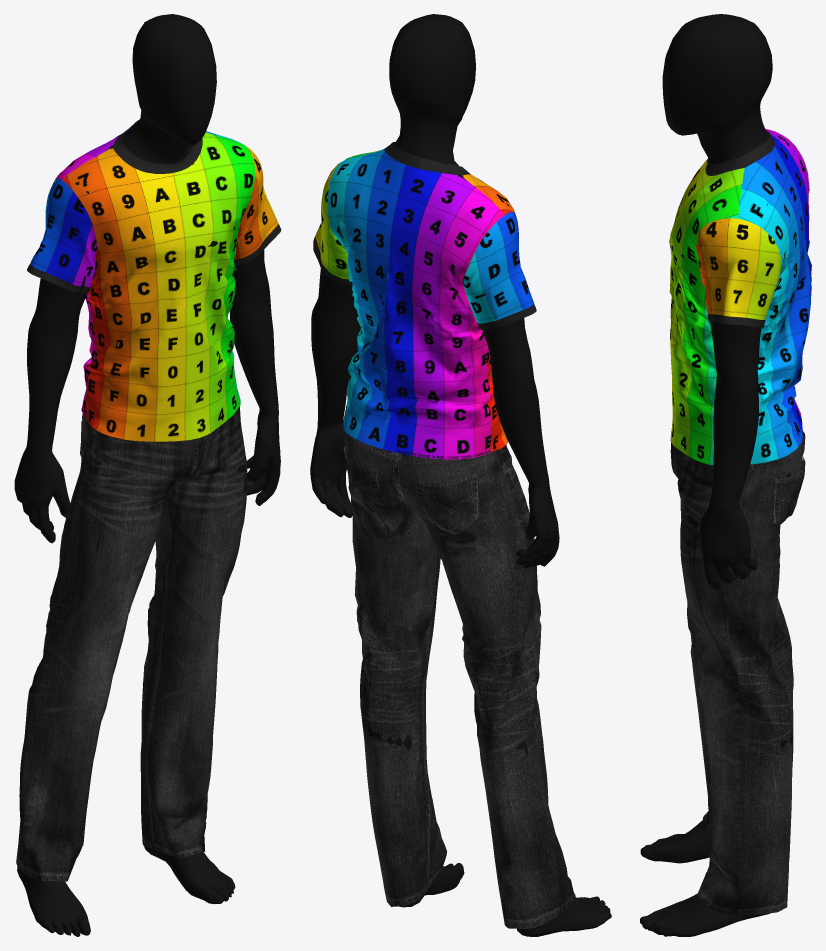
File: att_pg_manniTest_low.glb
3 renders of one model, left to right at view 1: azimuth 30°, elevation 25°; view 2: azimuth 150°, elevation 25°; view 3: azimuth 270°, elevation 25°, orthographic. The views are drawn at different scales.
Visible parts, largest first — view 1: Cloth_5, Male_mannequin_5; view 2: Cloth_5, Male_mannequin_5; view 3: Cloth_5, Male_mannequin_5.
Part boxes in pixels (x1,y1,x2,y2): Cloth_5: (16,119,281,881); Male_mannequin_5: (14,14,280,936); Cloth_5: (313,142,575,928); Male_mannequin_5: (310,14,611,936); Cloth_5: (669,128,811,914); Male_mannequin_5: (640,14,792,936).
Size of the model in its own units: 0.6107 by 1.93 by 0.3315.
5 materials, 2 textured.
